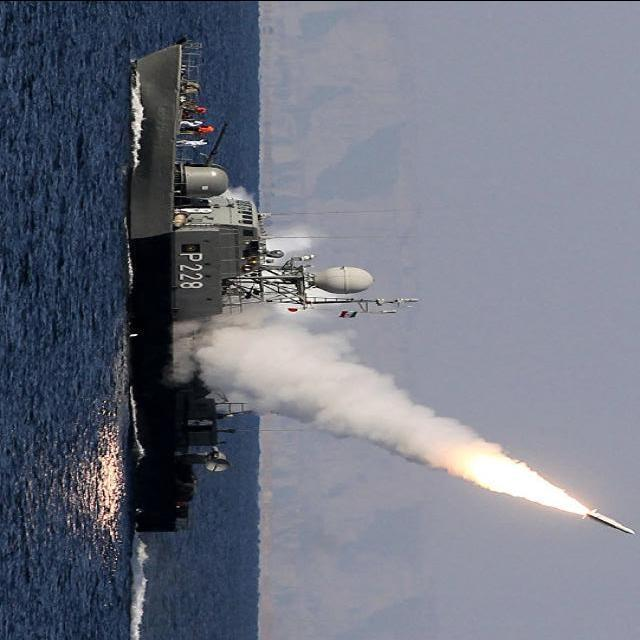missile: (582, 503, 636, 545)
